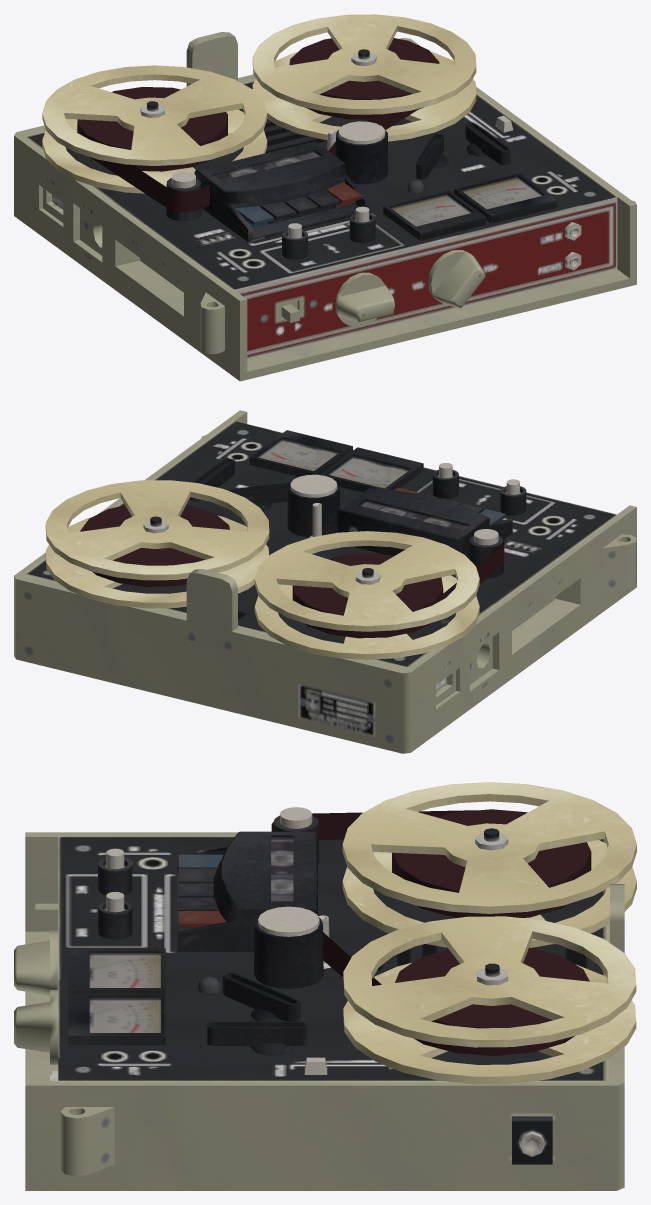
Rendered from enregisteurarubanmini.gltf.
3 views of the same model, one above another, from view 1: azimuth 30°, elevation 25°; view 2: azimuth 150°, elevation 25°; view 3: azimuth 270°, elevation 25° (orthographic). The views are drawn at different scales.
Visible parts, largest first — view 1: TapeRecorder_33; view 2: TapeRecorder_33; view 3: TapeRecorder_33.
Boxes of the visible parts, x1,y1,x2,y2 form: TapeRecorder_33: (14, 14, 636, 381); TapeRecorder_33: (14, 410, 636, 753); TapeRecorder_33: (14, 782, 636, 1190).
Size of the model in its own units: 0.5086 by 0.1462 by 0.4835.
Materials: 2 (2 with a texture image).
